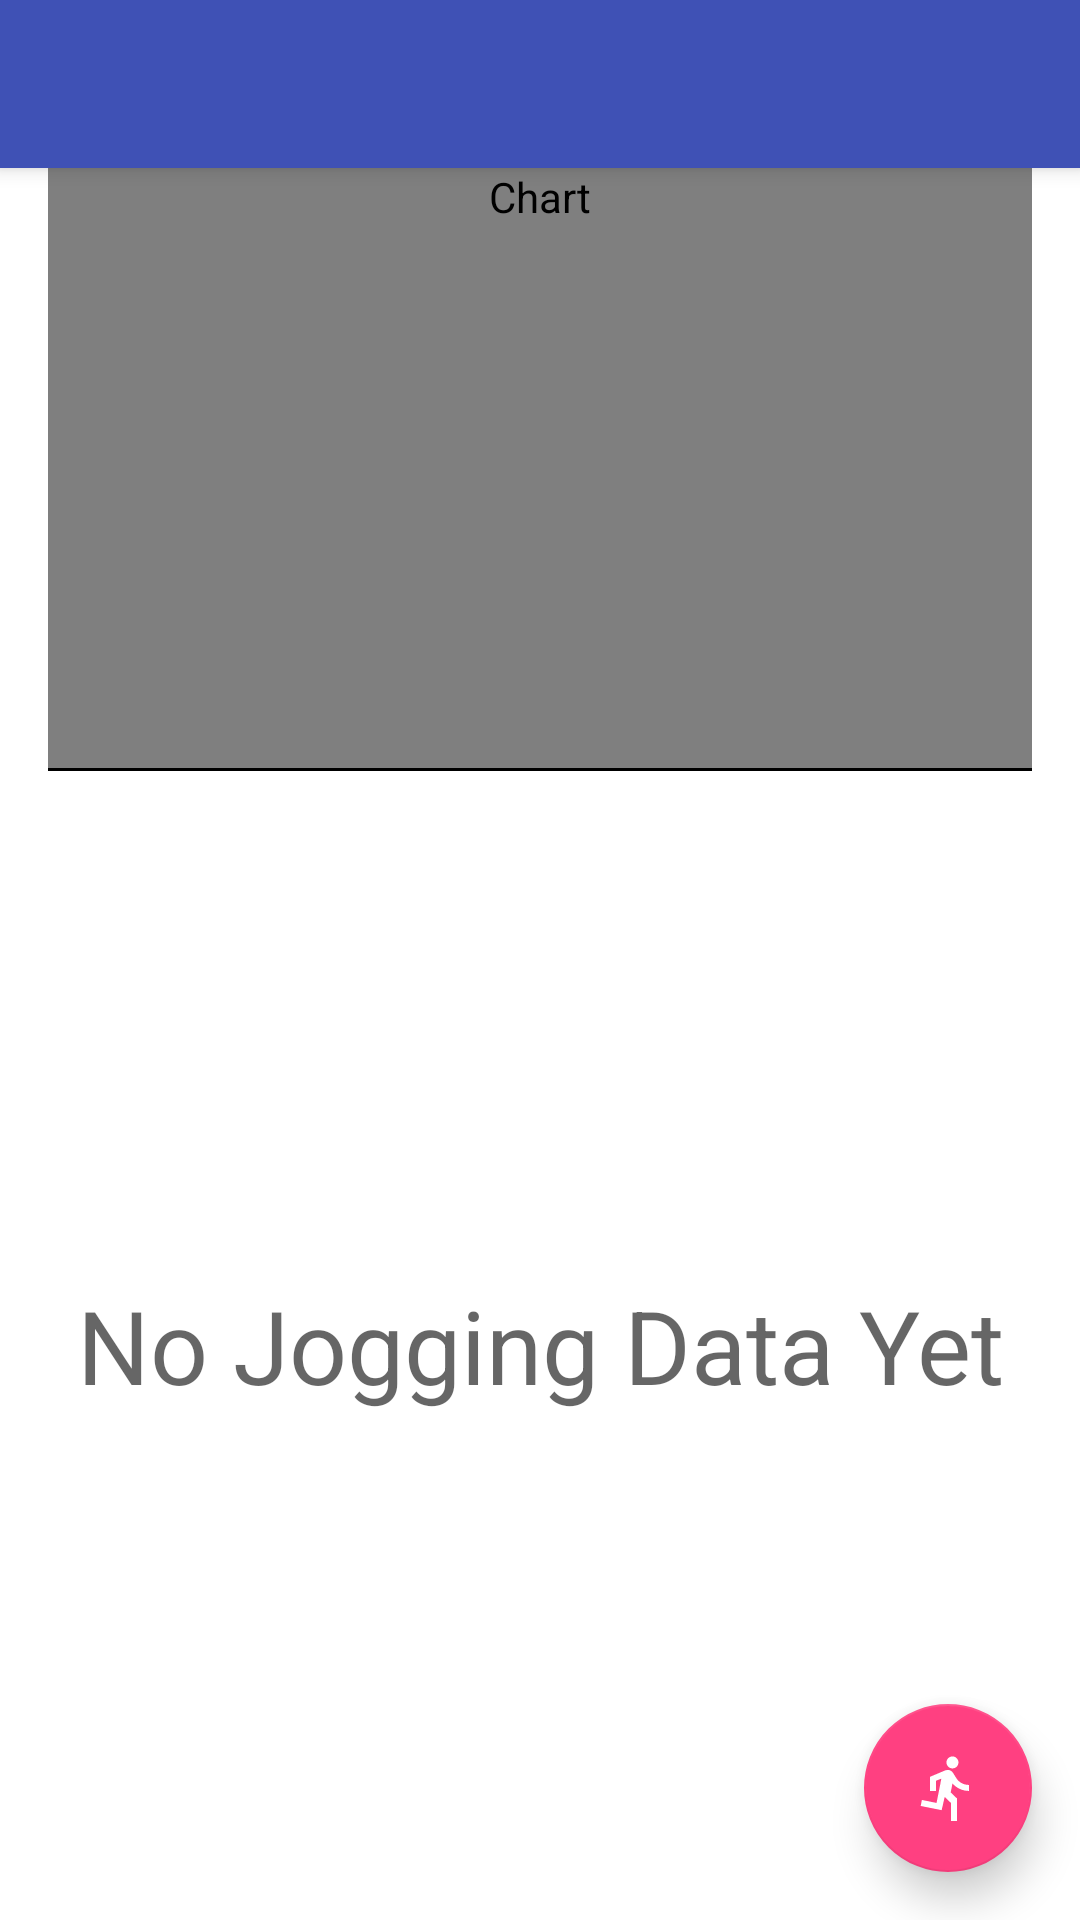

Screen size 1080×1920. Icon name, then its box in pixels as [x1=x1, y1=y1, x2=x2, y2=y2]:
Start: [x1=864, y1=1704, x2=1032, y2=1872]
